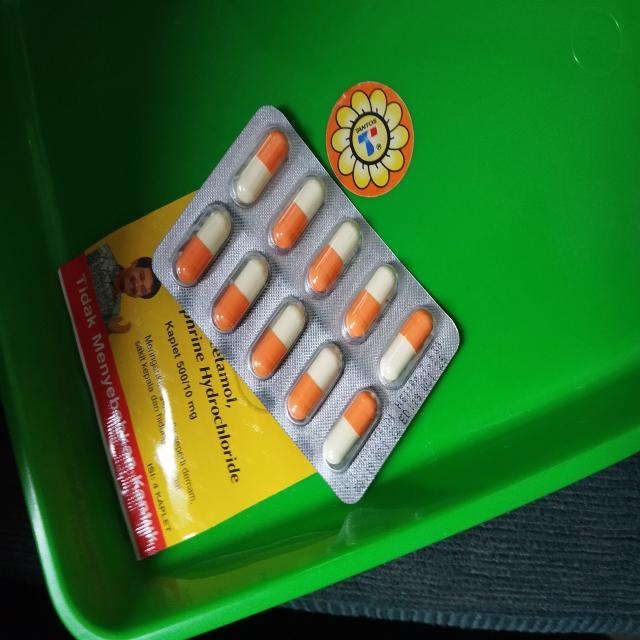B3: (151, 106, 457, 501), (54, 188, 316, 559)
